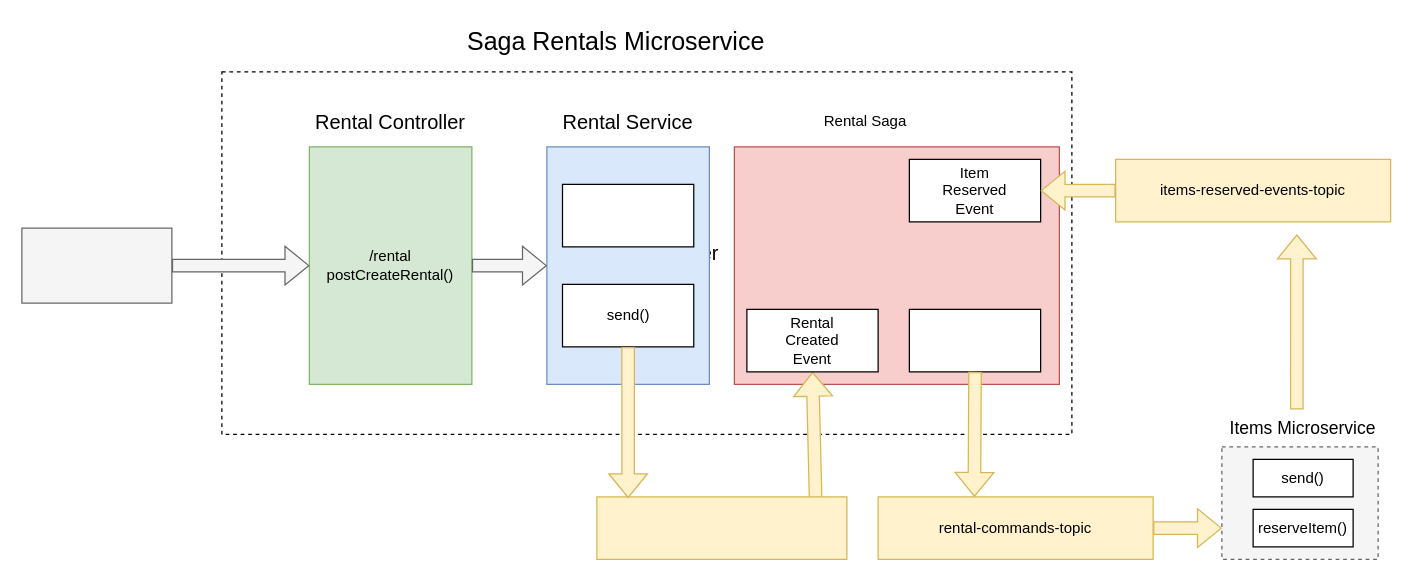
The diagram is 1413 pixels wide and 581 high, and some of its shapes have lost their labels. The shapes that lost their labels are listed below. From the top down, each one's centre as x and y in pixels, then its label:
At (x=627, y=215): "save()".
At (x=96, y=265): "Client".
At (x=974, y=340): "Reserved Item Command".
At (x=721, y=527): "rental-created-events-topic".
